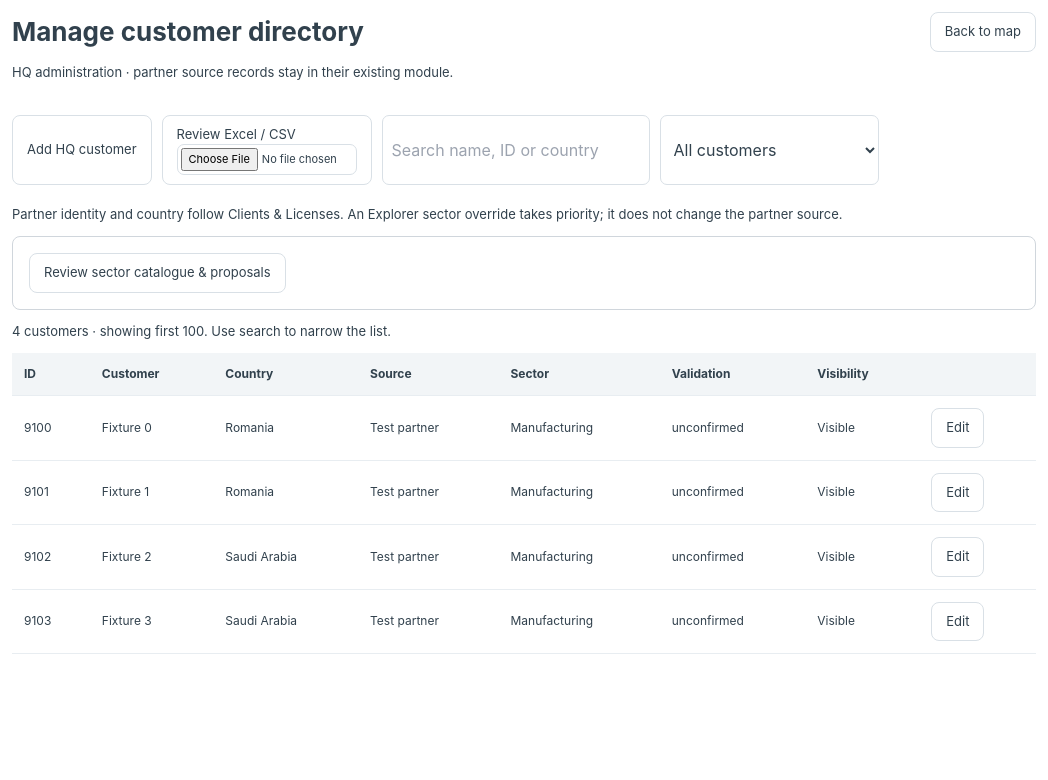
Test case: Directory country presentation › finds both source variants by Romania
The width and height of the screenshot is (1048, 780).
Type "Romania" into the field named "Search directory" at (516, 150), box [382,114,650,184]
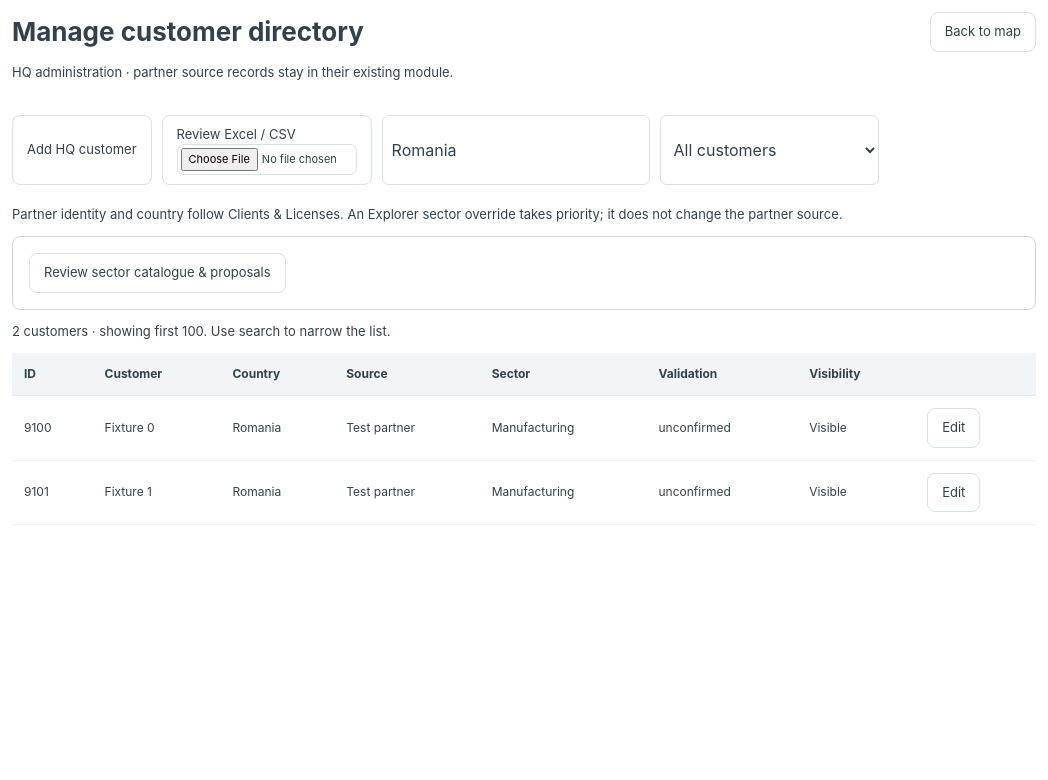
Check: the number of rows is 3, box [12,353,1036,396]; [12,396,1036,460]; [12,460,1036,524]
Check: the number of cells "Romania" is 2, box [220,396,334,460]; [220,460,334,524]
